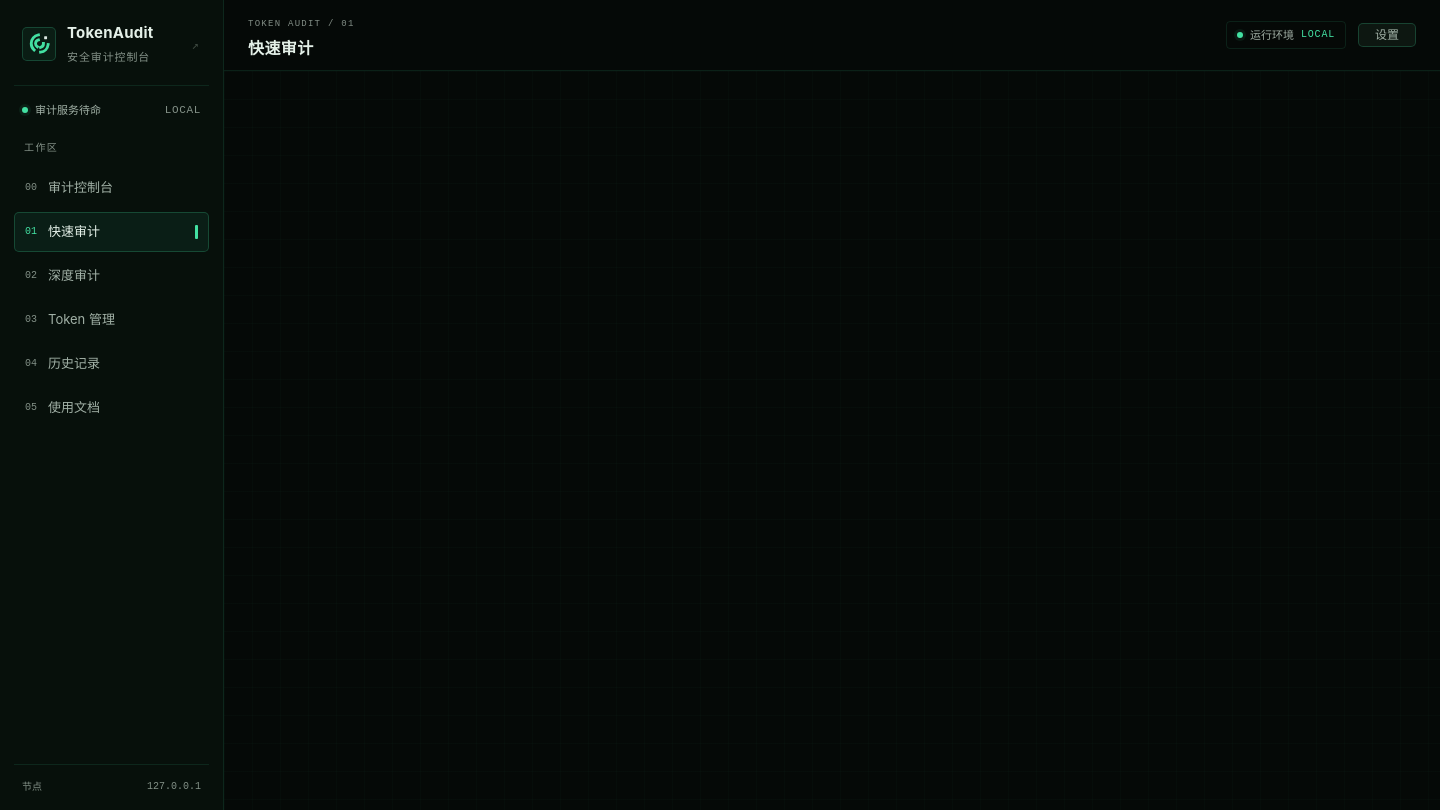
console shell routing › uses the brand as a project-home link
Click the link to "/home" at point(112, 54), box [14,22,209,86]
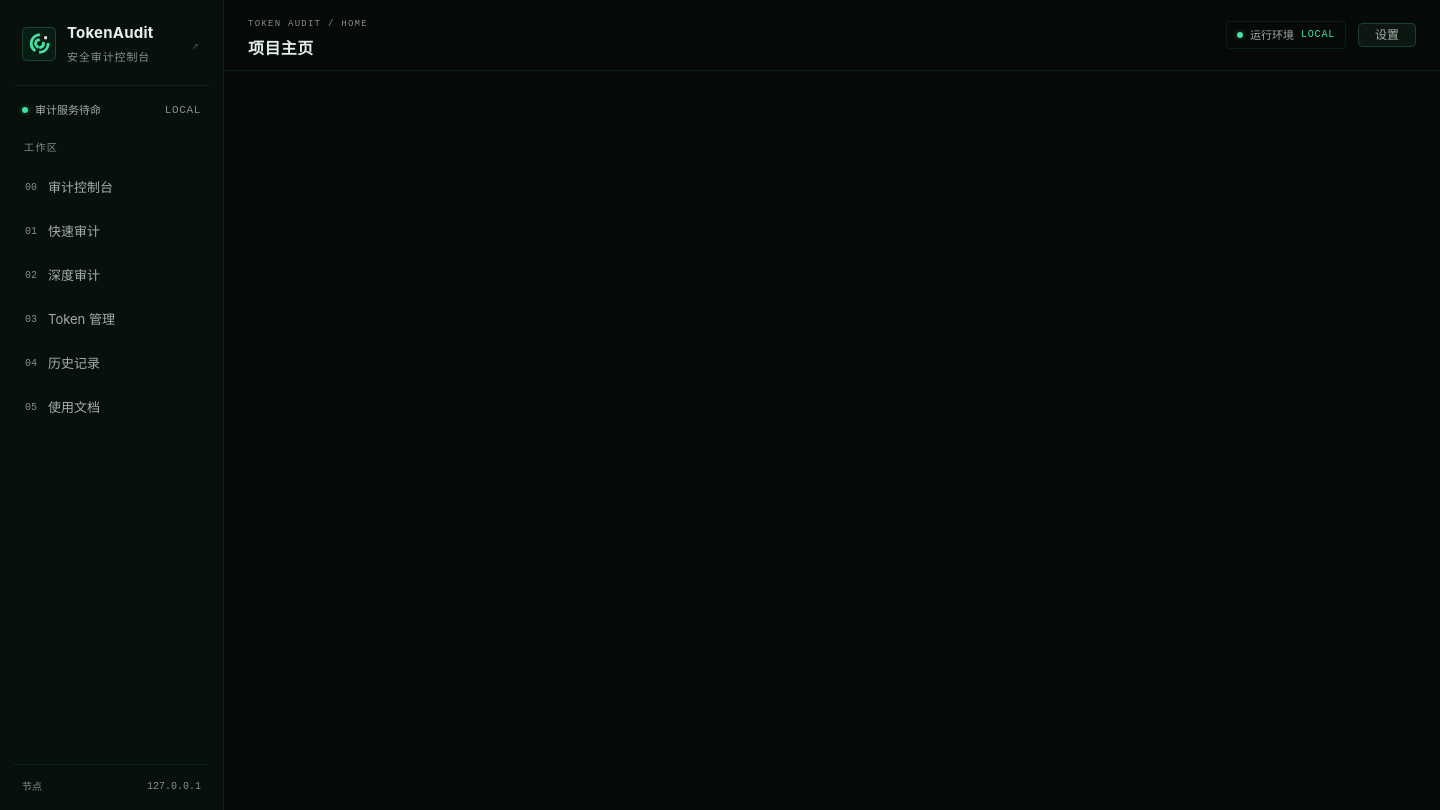
Now the heading "项目主页" is shown, box [248,38,314,58]
